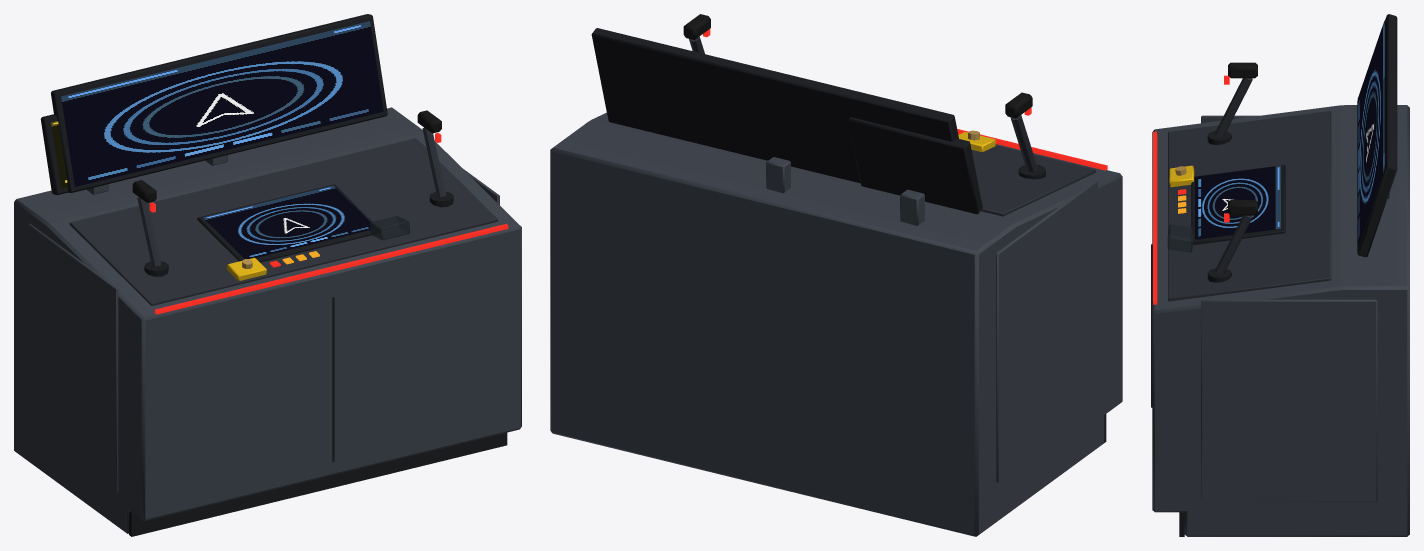
Rendered from console_weapons.glb.
3 renders of one model, left to right at view 1: azimuth 30°, elevation 25°; view 2: azimuth 150°, elevation 25°; view 3: azimuth 270°, elevation 25°, orthographic. The views are drawn at different scales.
Visible parts, largest first — view 1: console_weapons; view 2: console_weapons; view 3: console_weapons.
Boxes of the visible parts, x1,y1,x2,y2 form: console_weapons: (14, 14, 521, 536); console_weapons: (550, 14, 1122, 536); console_weapons: (1151, 14, 1409, 536).
Size of the model in its own units: 1.62 by 1.45 by 0.954.
Materials: 11 (2 with a texture image).
